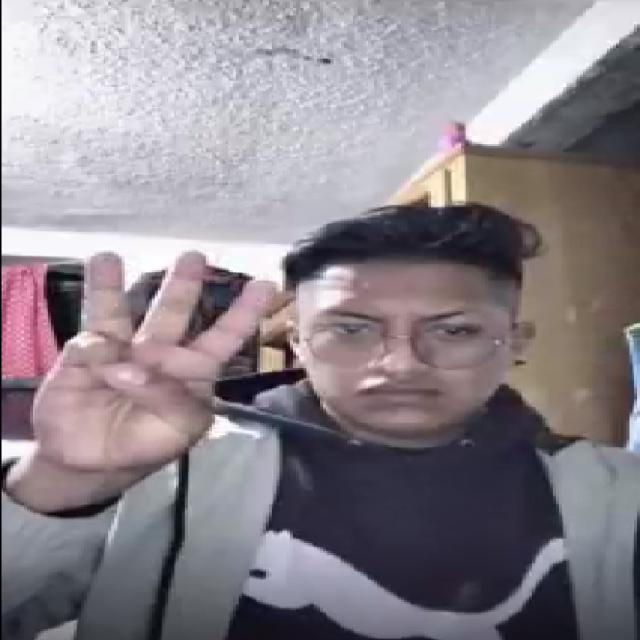W: (8, 241, 288, 486)
